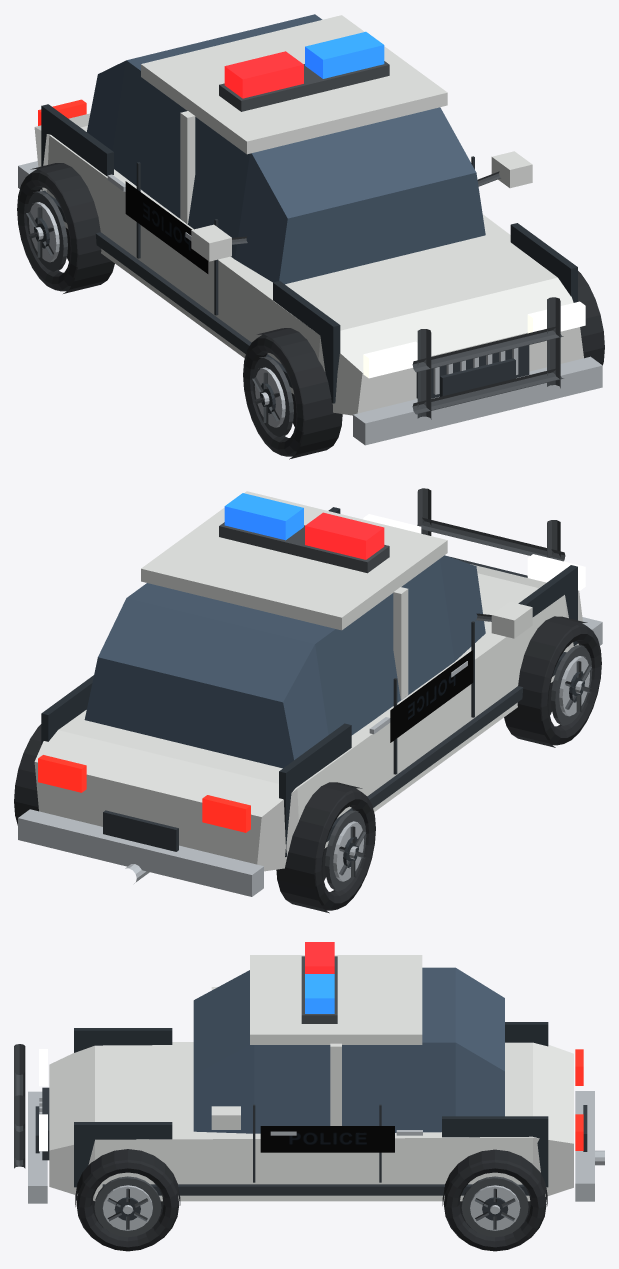
Rendered from car-police.glb.
3 renders of one model, top to bottom at view 1: azimuth 30°, elevation 25°; view 2: azimuth 150°, elevation 25°; view 3: azimuth 270°, elevation 25°, orthographic. The views are drawn at different scales.
Visible parts, largest first — view 1: body-detail, wheel-front-left, wheel-back-left, wheel-front-right; view 2: body-detail, wheel-back-left, wheel-front-left, wheel-back-right; view 3: body-detail, wheel-front-right, wheel-back-right.
Part boxes in pixels (x1=…): body-detail: x1=18, y1=14, x2=602, y2=445; wheel-front-left: x1=243, y1=328, x2=342, y2=459; wheel-back-left: x1=17, y1=163, x2=114, y2=293; wheel-front-right: x1=578, y1=271, x2=604, y2=365; body-detail: x1=18, y1=488, x2=602, y2=896; wheel-back-left: x1=276, y1=782, x2=375, y2=913; wheel-front-left: x1=504, y1=616, x2=601, y2=747; wheel-back-right: x1=14, y1=724, x2=41, y2=825; body-detail: x1=14, y1=942, x2=604, y2=1203; wheel-front-right: x1=75, y1=1149, x2=180, y2=1251; wheel-back-right: x1=442, y1=1149, x2=547, y2=1251.
Bounding box in the file's own units: 1.85 × 1.51 × 3.61.
Materials: 13 (1 with a texture image).
